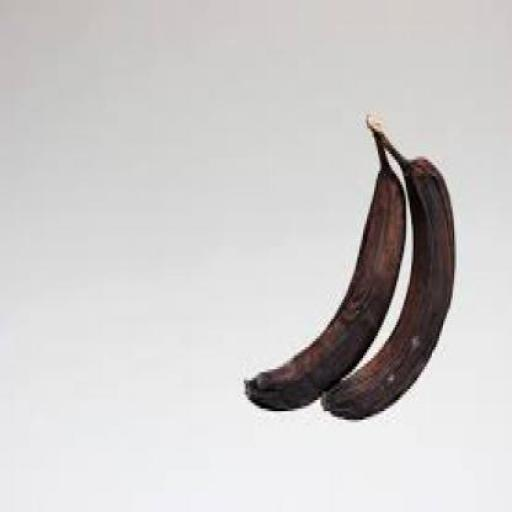biodegradable: (240, 112, 404, 411), (320, 112, 454, 420)
